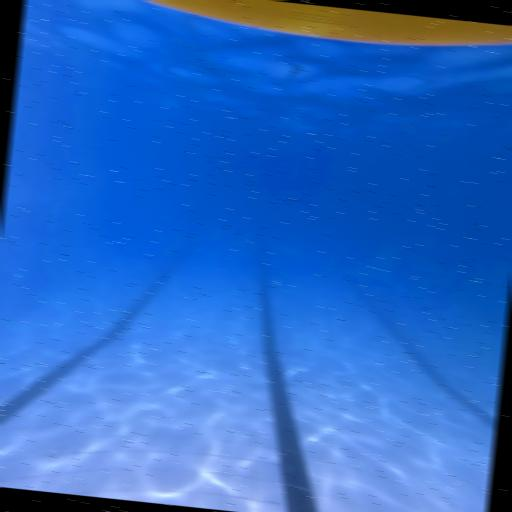upper_gate: (43, 0, 512, 58)
